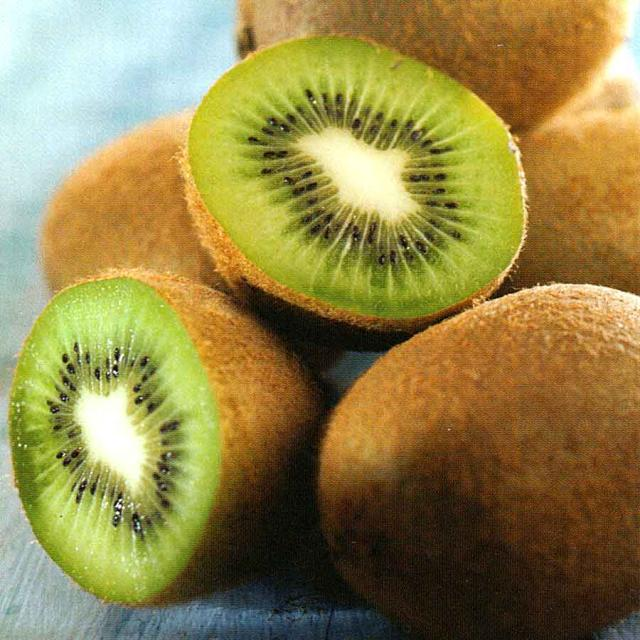kiwi: (316, 286, 640, 640), (12, 268, 343, 605), (182, 32, 532, 333), (39, 107, 342, 382), (235, 0, 622, 129), (487, 114, 640, 302)
